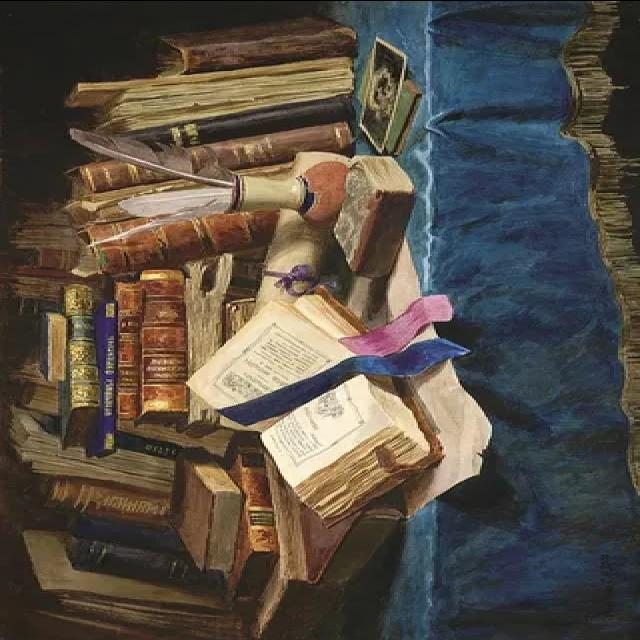book: (172, 278, 436, 534)
